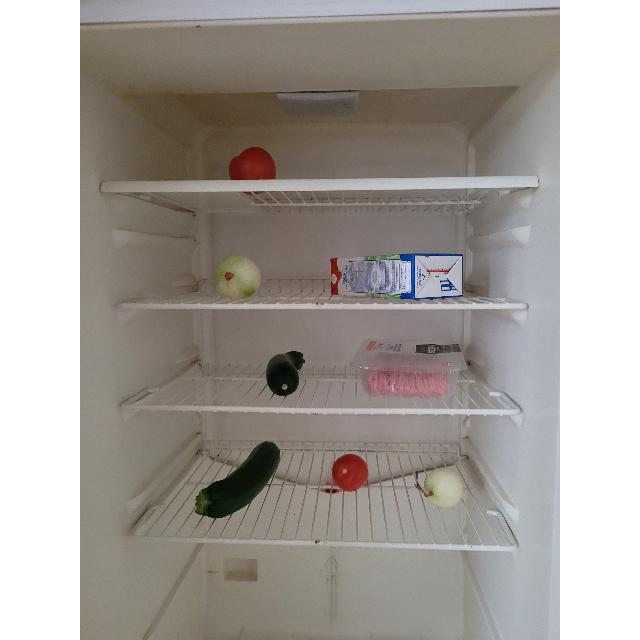meat: (366, 369, 450, 396)
milk: (327, 254, 461, 300)
onion: (215, 254, 261, 300), (422, 467, 464, 509)
tomato: (228, 145, 276, 193), (332, 453, 368, 492)
zucchini: (195, 442, 282, 518), (266, 351, 306, 397)
